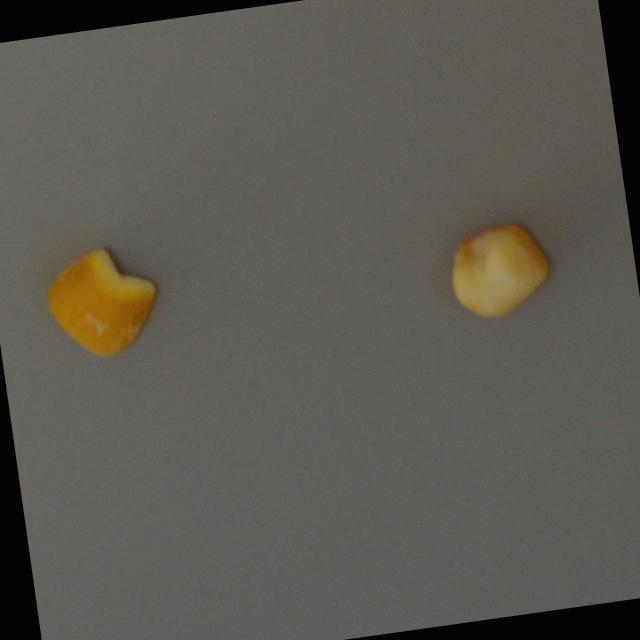dañado: (37, 236, 171, 368)
no_desgerminado: (436, 213, 565, 327)
